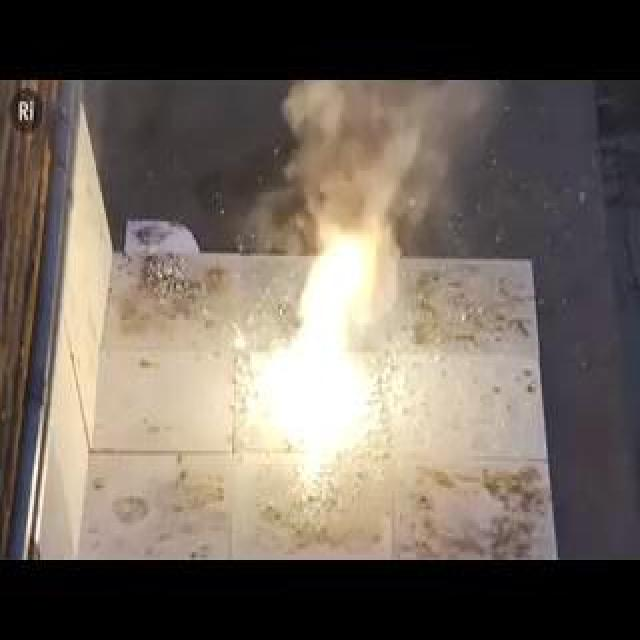Fire: (250, 234, 390, 466)
